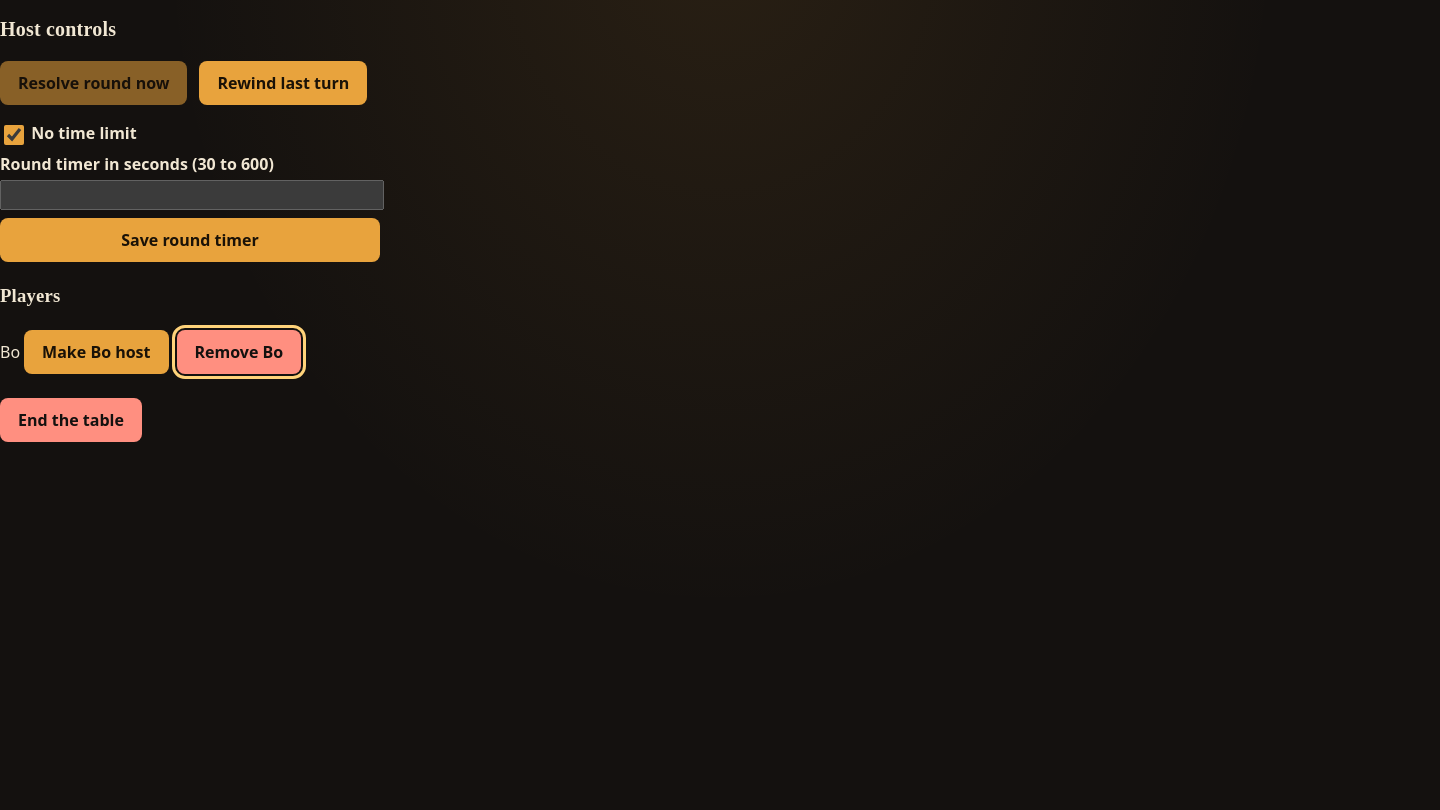
Scenario: HostControls › removes a player only after confirming, and Escape cancels with focus back on the opener
The image size is (1440, 810).
Click the button "Remove Bo". click: x=239, y=352
box: [176,330,301,374]
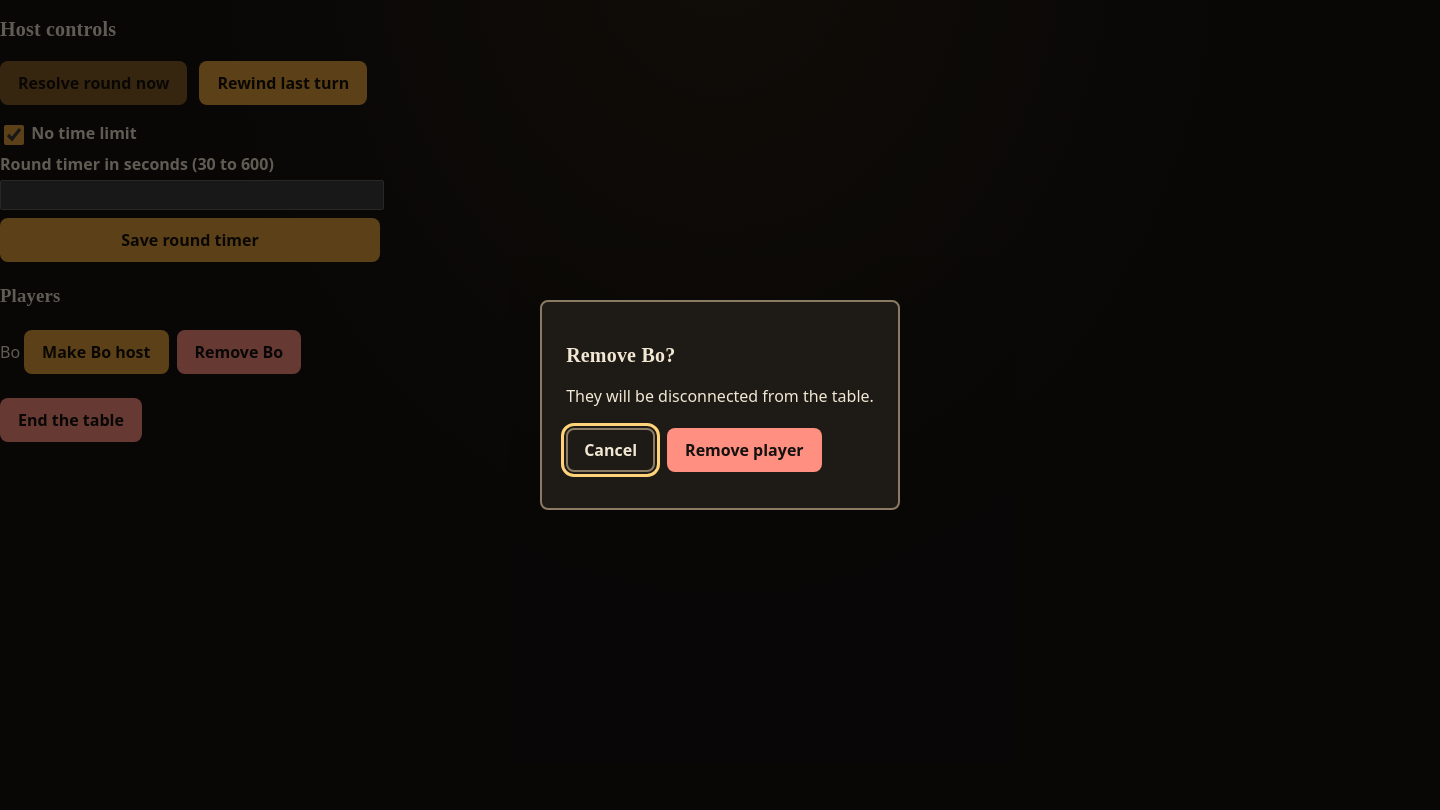
Expected: the dialog is shown, [540,300,900,510]
Press Escape
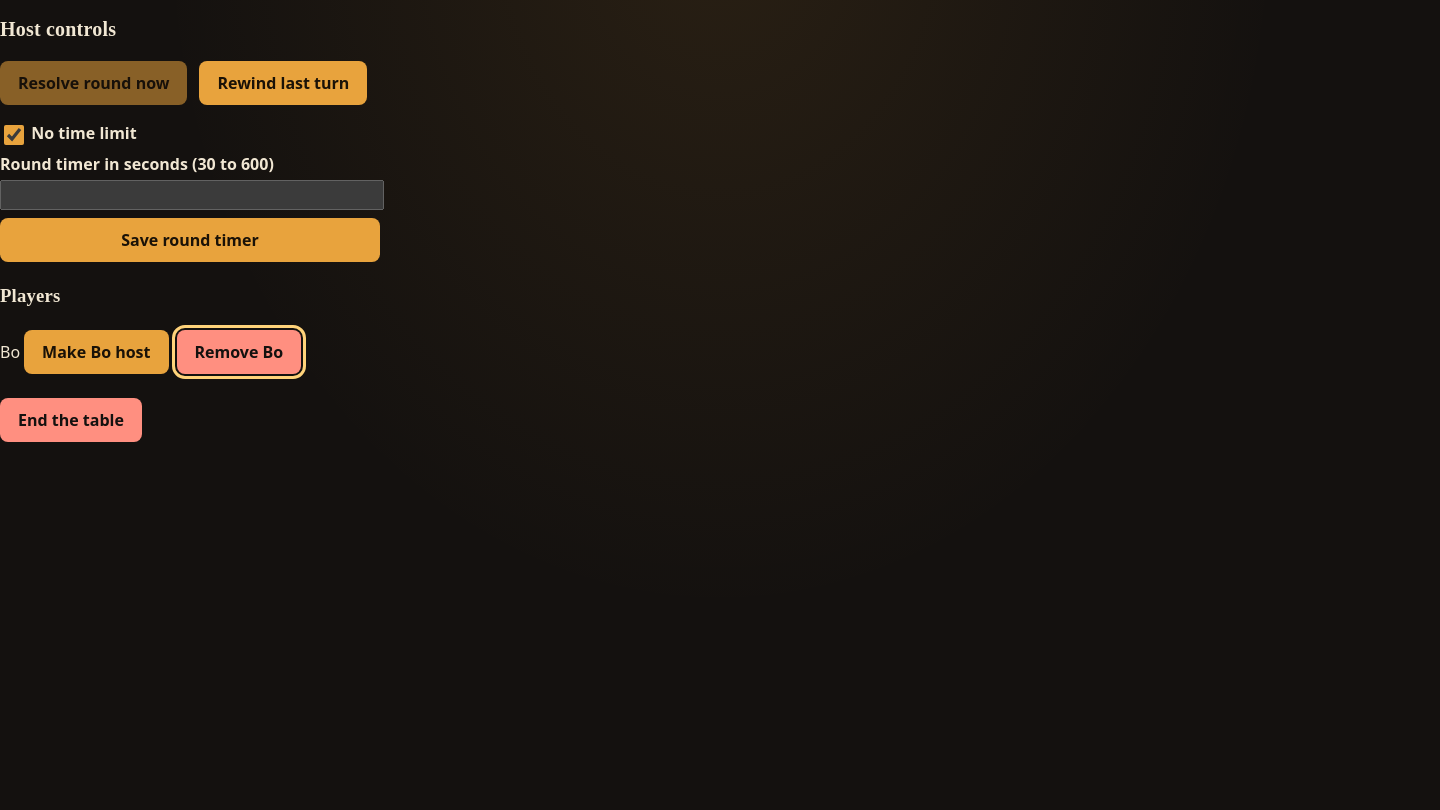
Expected: the dialog is gone
